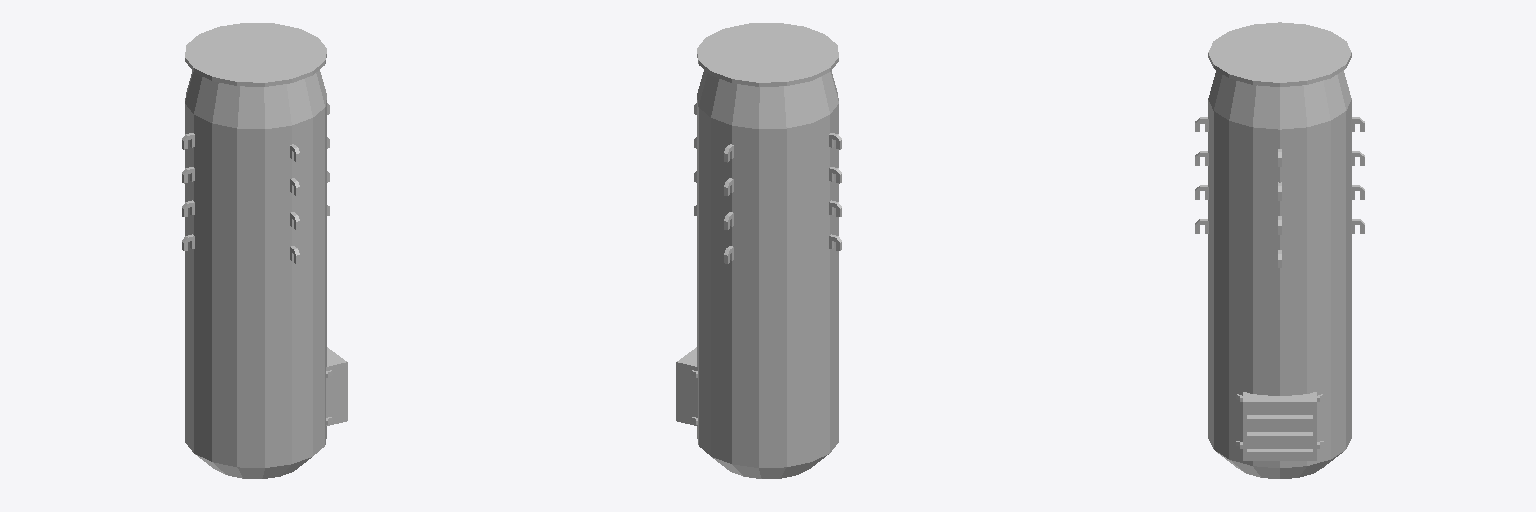
Rendered from nuke_ivy_mike.obj.
3 renders of one model, left to right at view 1: azimuth 30°, elevation 25°; view 2: azimuth 150°, elevation 25°; view 3: azimuth 270°, elevation 25°, orthographic.
Parts seen in each view (by area): view 1: Cylinder; view 2: Cylinder; view 3: Cylinder.
Boxes of the visible parts, <box> form: Cylinder: <box>182,23,347,478</box>; Cylinder: <box>676,23,841,478</box>; Cylinder: <box>1195,22,1364,478</box>.
Size of the model in its own units: 2.26 by 6 by 2.26.